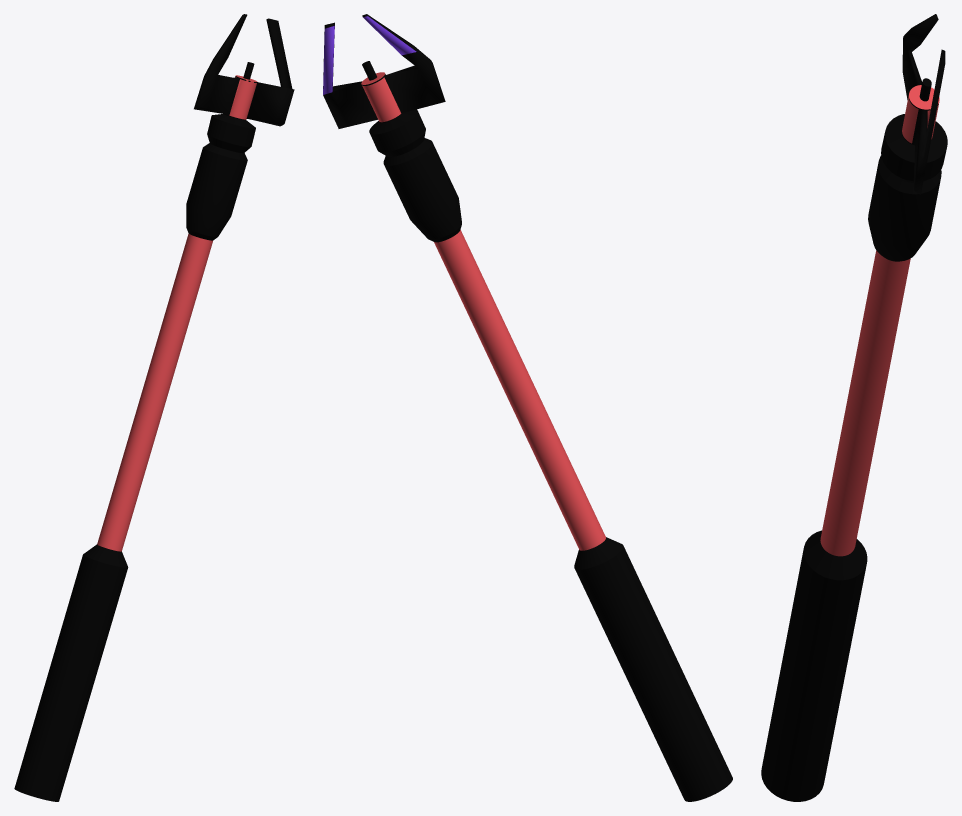
The model's file is tongkat kontak tongkol.fbx.
3 views of the same model, side by side, from view 1: azimuth 30°, elevation 25°; view 2: azimuth 150°, elevation 25°; view 3: azimuth 270°, elevation 25° (orthographic). The views are drawn at different scales.
Parts seen in each view (by area): view 1: Cylinder; view 2: Cylinder; view 3: Cylinder.
Boxes of the visible parts, x1,y1,x2,y2 form: Cylinder: [14, 14, 294, 801]; Cylinder: [323, 14, 732, 801]; Cylinder: [761, 14, 947, 801].
Size of the model in its own units: 50.5 by 103 by 18.32.
